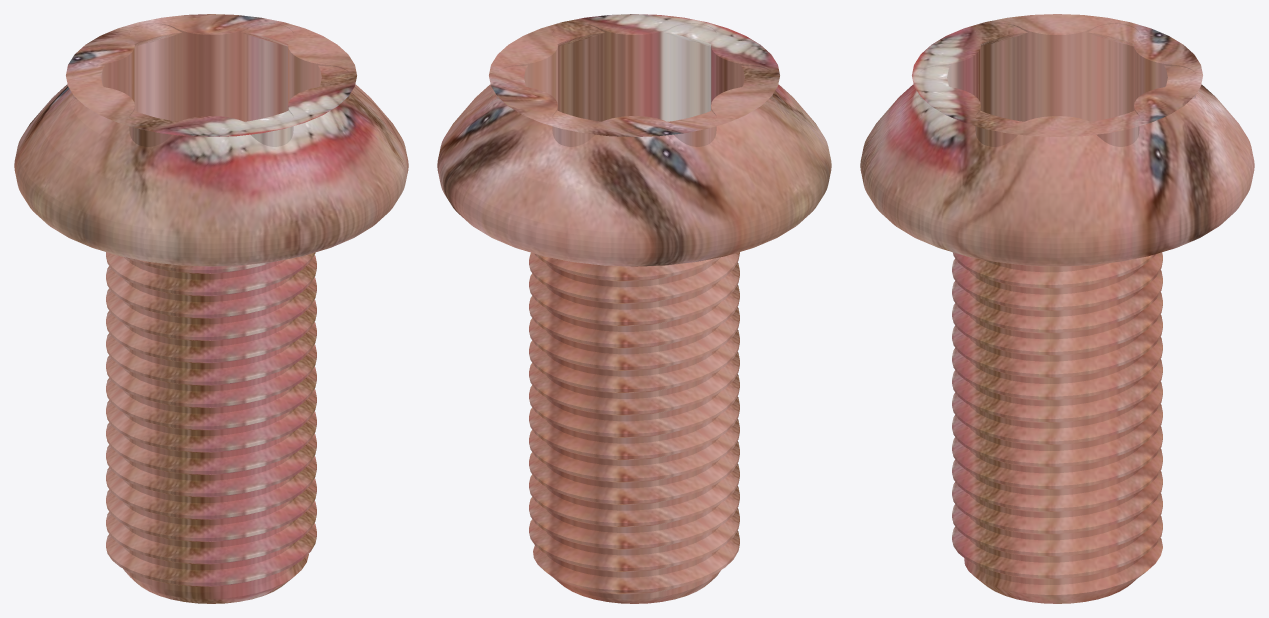
Rendered from kroeger-dome-torx-bolt.glb.
3 renders of one model, left to right at view 1: azimuth 30°, elevation 25°; view 2: azimuth 150°, elevation 25°; view 3: azimuth 270°, elevation 25°, orthographic.
Parts seen in each view (by area): view 1: Bolt.019; view 2: Bolt.019; view 3: Bolt.019.
Boxes of the visible parts, bbox=[...] form: Bolt.019: bbox=[14, 14, 408, 603]; Bolt.019: bbox=[437, 14, 831, 603]; Bolt.019: bbox=[860, 14, 1254, 603].
Size of the model in its own units: 0.0112 by 0.0155 by 0.0112.
1 material, 1 textured.
